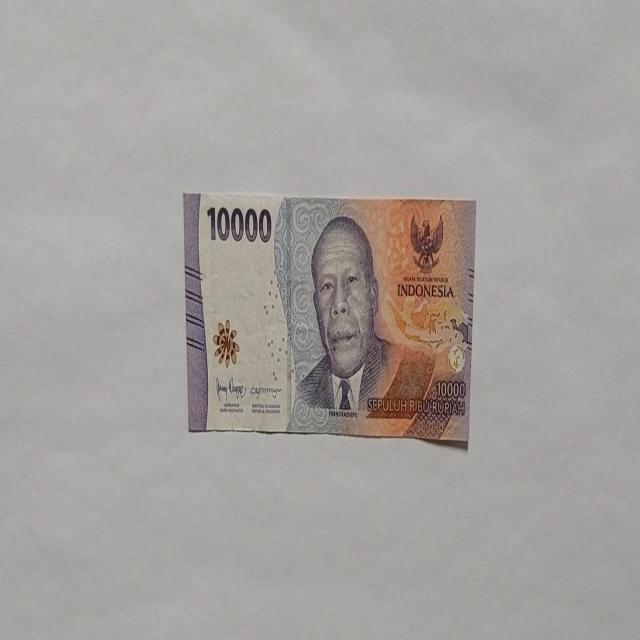Kertas: (184, 190, 476, 447), (205, 202, 272, 245)
